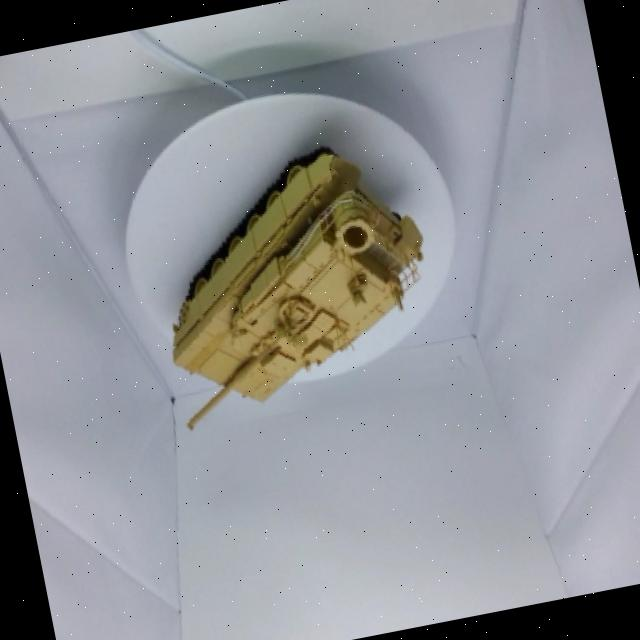korea tank: (111, 115, 461, 472)
